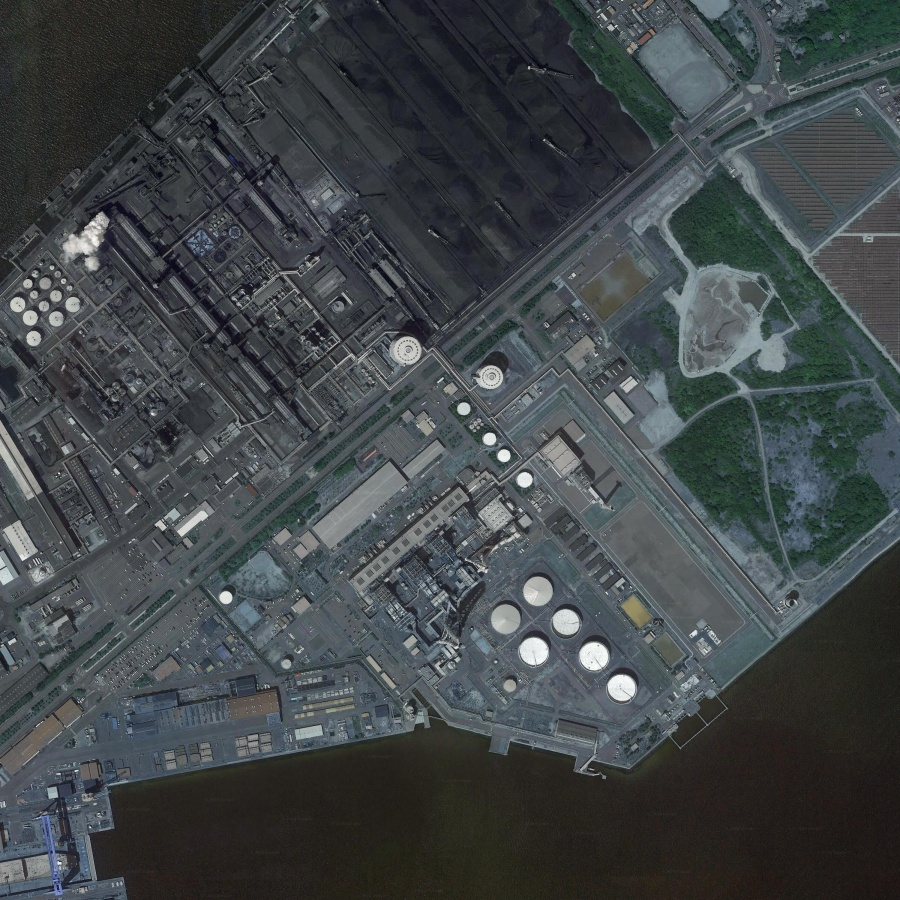PowerPlant: (358, 322, 659, 702)
